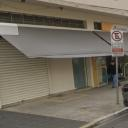NoEstacionar: (111, 28, 124, 44)
